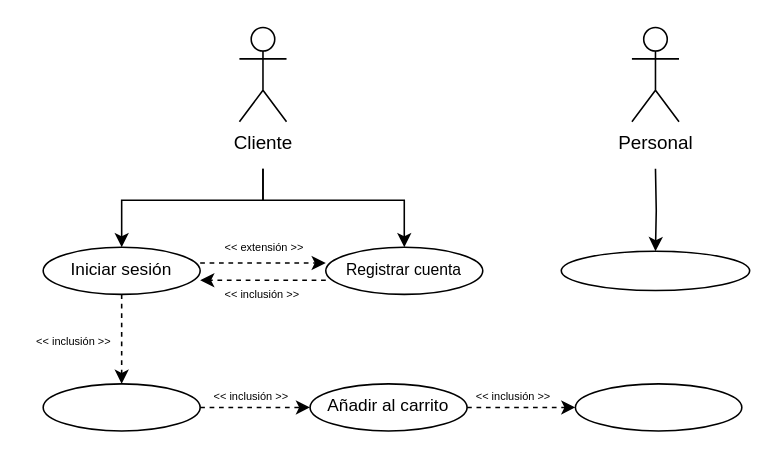
This 777x458 diagram has some shape labels left out. Each missing label, with the centre of its shape:
"Confirmar compra" belongs at point 658,406.
"Ver catálogo" belongs at point 121,406.
"Ver lista de órdenes" belongs at point 655,270.
